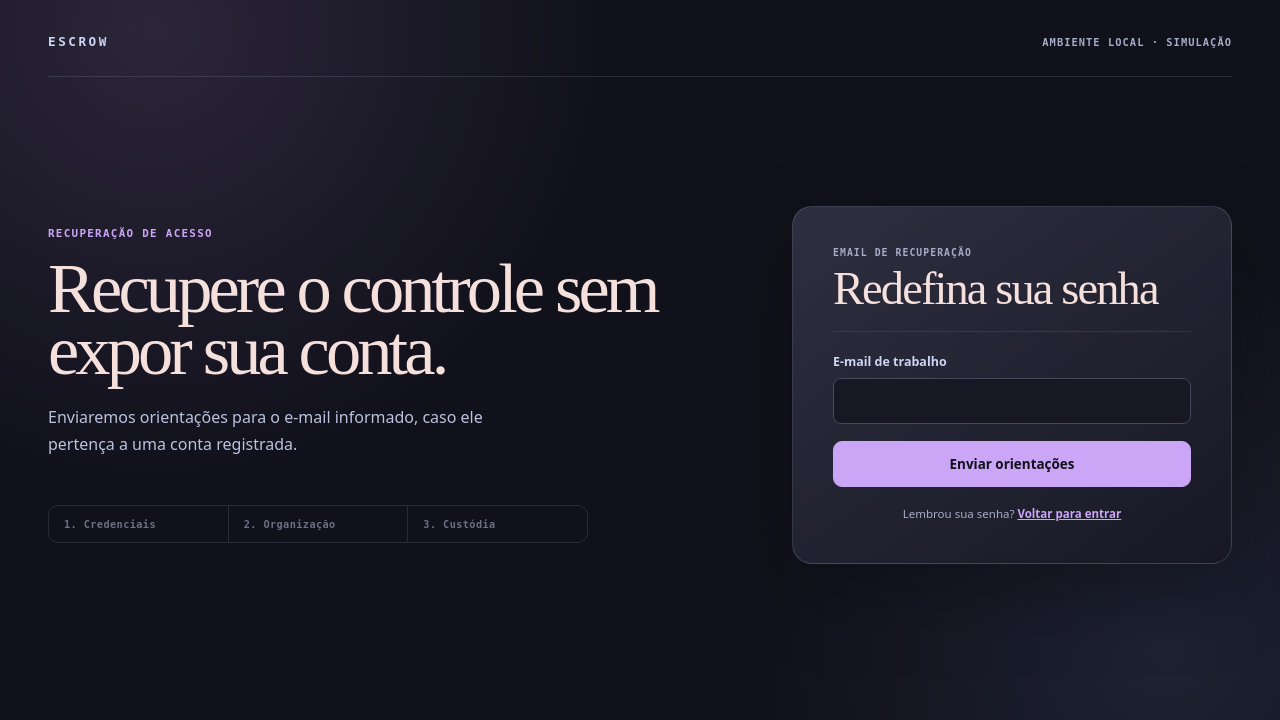
Test case: acesso da organização › solicita recuperação sem revelar se o e-mail pertence a uma conta
The width and height of the screenshot is (1280, 720).
In the field labelled "E-mail de trabalho": (1012, 401) [833,378,1191,424], type "unknown@horizonte.test"
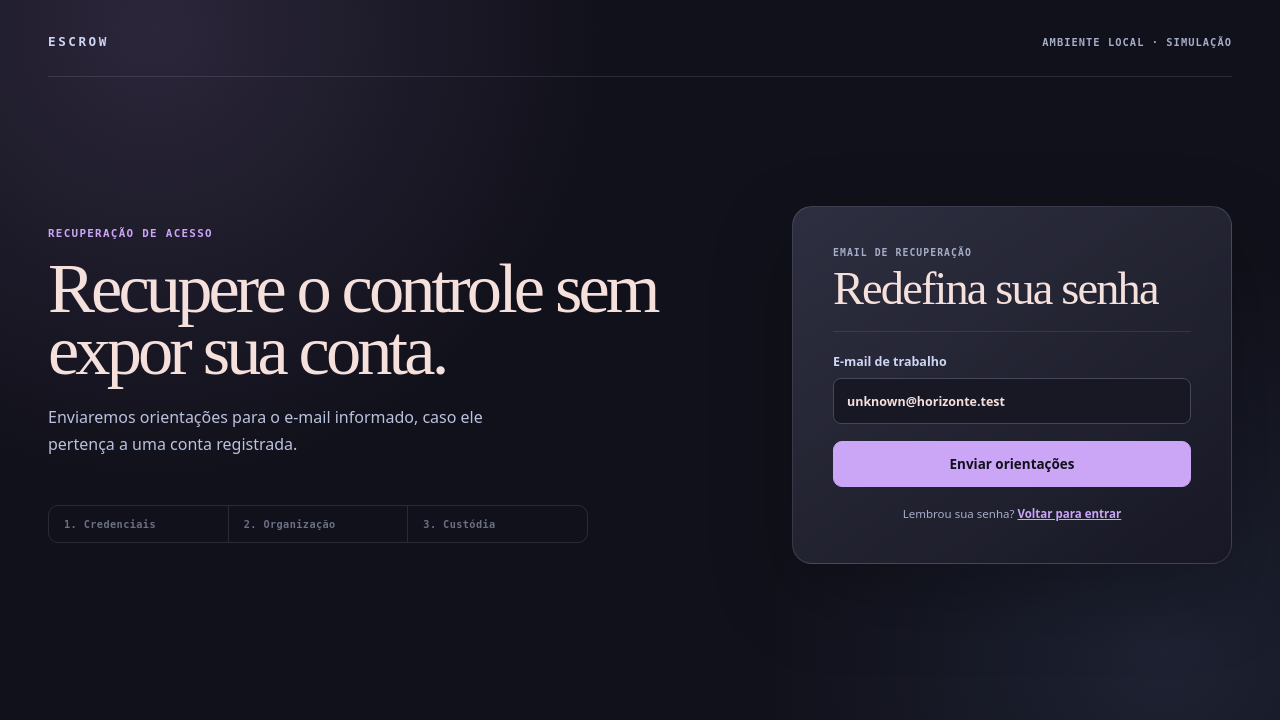
Click the button "Enviar orientações": click(1012, 464) [833,441,1191,487]
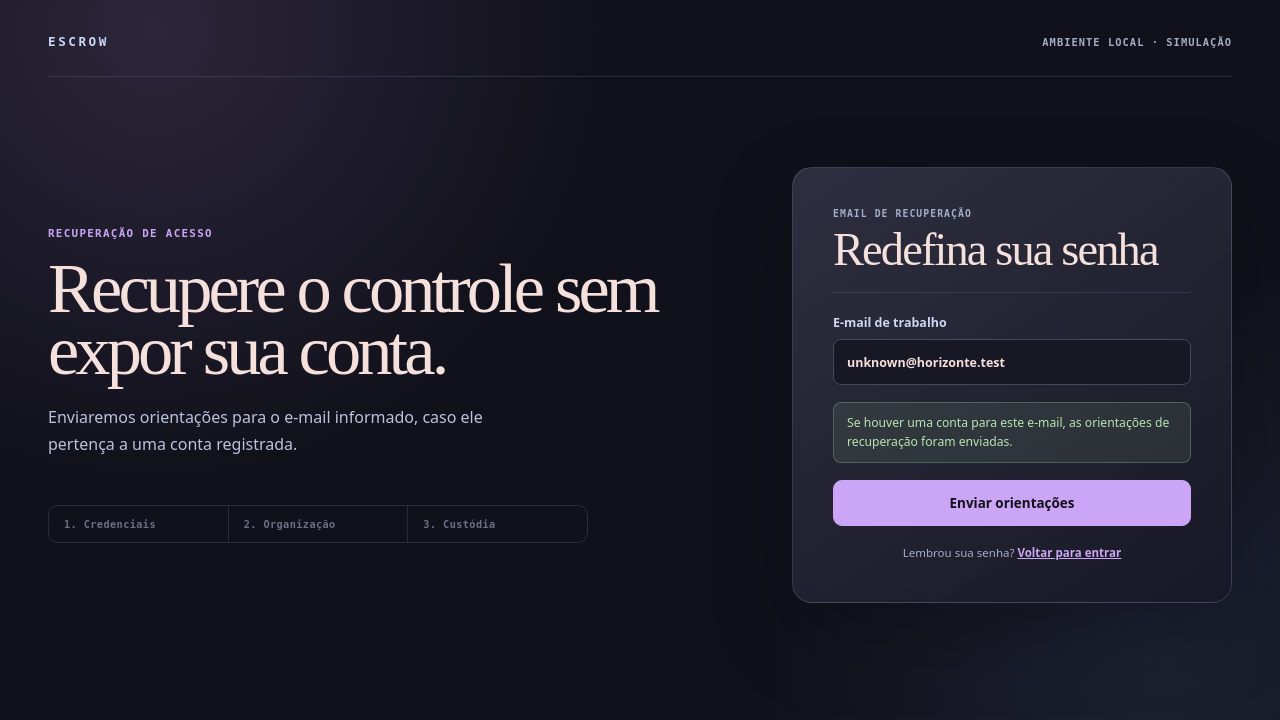
Check: the text "Se houver uma conta para este e-mail, as orientações de recuperação foram enviadas." is shown, box [847,414,1169,450]
